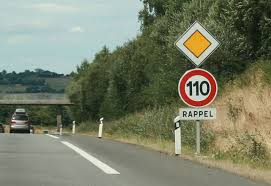Speed_limit_110km: (178, 68, 218, 108)
